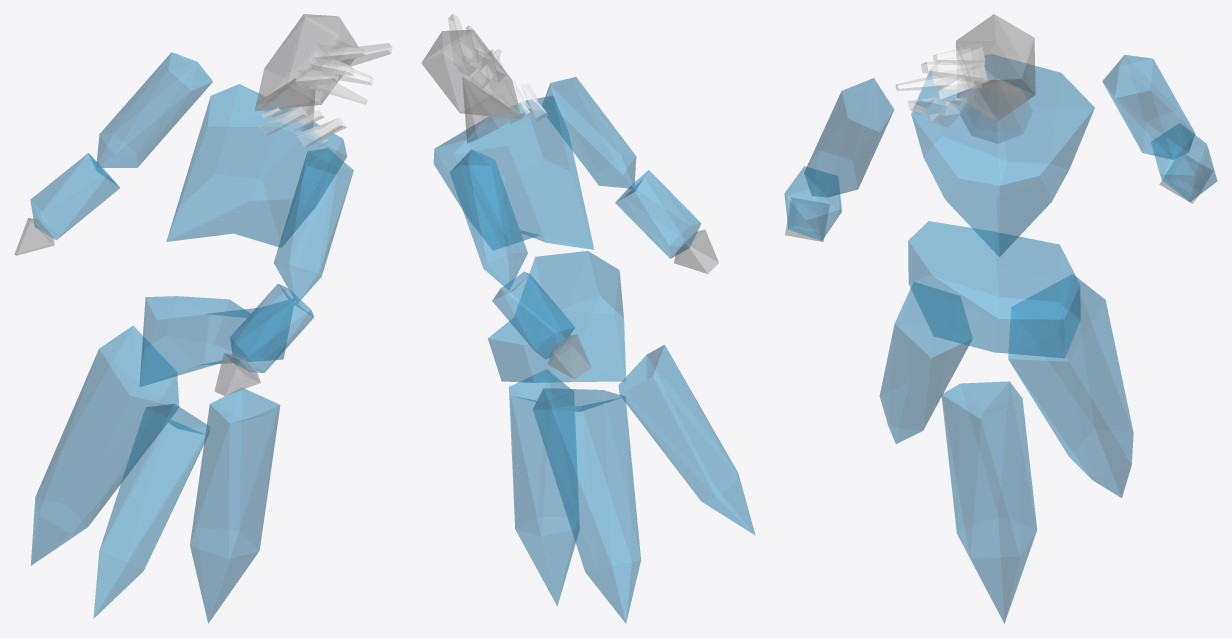
File: ghostChargingLunge10.obj
3 views of the same model, side by side, from view 1: azimuth 30°, elevation 25°; view 2: azimuth 150°, elevation 25°; view 3: azimuth 270°, elevation 25° (orthographic). The views are drawn at different scales.
Parts seen in each view (by area): view 1: Cube.001_Cube.006, Icosphere.017, Icosphere.016, Icosphere.015, Cube_Cube.006, Icosphere.005_Icosphere.005, Icosphere.007_Icosphere.005, Icosphere.003_Icosphere.006, Icosphere.006_Icosphere.005, Icosphere.008_Icosphere.005, Cone_Cone.006, Cube.002_Cube.006 (+8 smaller); view 2: Cube.001_Cube.006, Icosphere.017, Cube_Cube.006, Icosphere.016, Icosphere.015, Icosphere.007_Icosphere.005, Icosphere.003_Icosphere.006, Icosphere.005_Icosphere.005, Icosphere.006_Icosphere.005, Icosphere.008_Icosphere.005, Cone_Cone.006, Cube.002_Cube.006 (+3 smaller); view 3: Cube.001_Cube.006, Cube_Cube.006, Icosphere.017, Icosphere.016, Icosphere.015, Icosphere.003_Icosphere.006, Icosphere.005_Icosphere.005, Icosphere.007_Icosphere.005, Icosphere.008_Icosphere.005, Icosphere.006_Icosphere.005, Cone_Cone.006, Cube.002_Cube.006 (+4 smaller).
Boxes of the visible parts, x1,y1,x2,y2 form: Cube.001_Cube.006: [166, 84, 346, 247]; Icosphere.017: [31, 325, 179, 565]; Icosphere.016: [190, 388, 280, 623]; Icosphere.015: [93, 404, 210, 618]; Cube_Cube.006: [139, 296, 294, 386]; Icosphere.005_Icosphere.005: [274, 148, 353, 303]; Icosphere.007_Icosphere.005: [96, 52, 212, 167]; Icosphere.003_Icosphere.006: [254, 14, 358, 111]; Icosphere.006_Icosphere.005: [230, 284, 313, 372]; Icosphere.008_Icosphere.005: [30, 153, 119, 239]; Cone_Cone.006: [256, 67, 314, 131]; Cube.002_Cube.006: [214, 353, 260, 395]; Cube.001_Cube.006: [433, 96, 594, 250]; Icosphere.017: [533, 388, 640, 623]; Cube_Cube.006: [488, 251, 625, 382]; Icosphere.016: [509, 369, 579, 605]; Icosphere.015: [618, 345, 755, 535]; Icosphere.007_Icosphere.005: [449, 149, 527, 289]; Icosphere.003_Icosphere.006: [421, 29, 522, 119]; Icosphere.005_Icosphere.005: [542, 77, 636, 188]; Icosphere.006_Icosphere.005: [615, 170, 701, 258]; Icosphere.008_Icosphere.005: [492, 272, 574, 359]; Cone_Cone.006: [462, 77, 516, 143]; Cube.002_Cube.006: [674, 229, 718, 273]; Cube.001_Cube.006: [911, 54, 1094, 256]; Cube_Cube.006: [908, 221, 1080, 358]; Icosphere.017: [1008, 274, 1133, 497]; Icosphere.016: [941, 381, 1037, 623]; Icosphere.015: [879, 282, 972, 443]; Icosphere.003_Icosphere.006: [956, 14, 1035, 121]; Icosphere.005_Icosphere.005: [804, 78, 894, 197]; Icosphere.007_Icosphere.005: [1102, 55, 1195, 159]; Icosphere.008_Icosphere.005: [1151, 123, 1217, 202]; Icosphere.006_Icosphere.005: [784, 166, 841, 240]; Cone_Cone.006: [960, 77, 1032, 143]; Cube.002_Cube.006: [785, 198, 829, 241].
Bounding box in the file's own units: 26.98 × 48.24 × 28.66.
